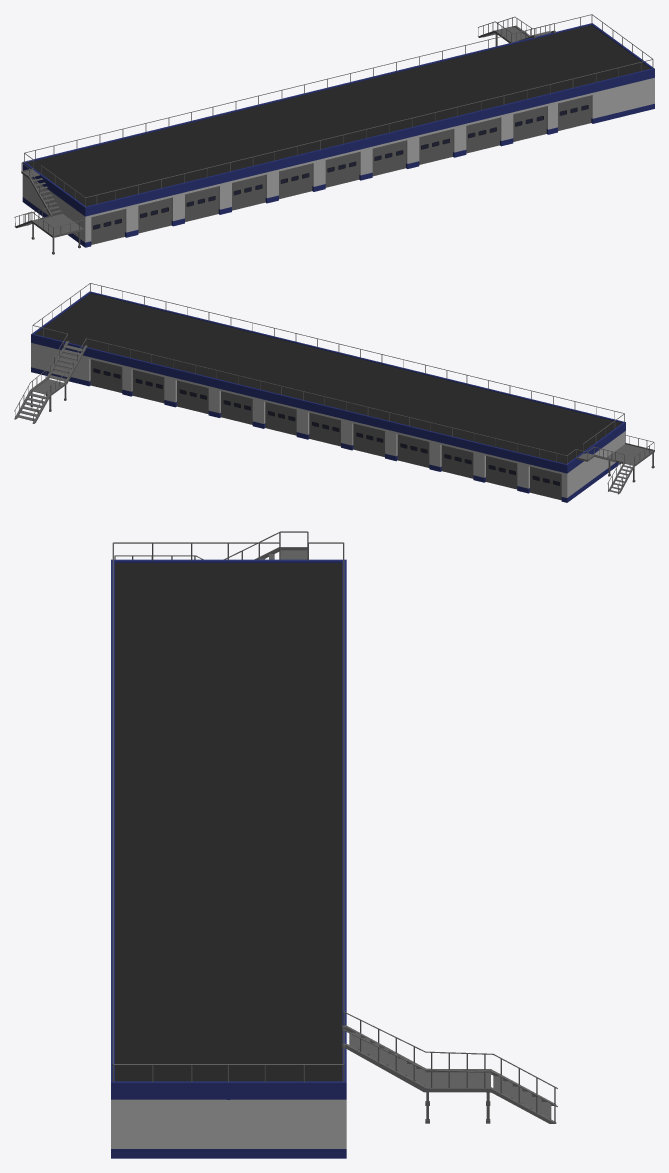
Rendered from LP_Building_02.fbx.
The picture shows the model from 3 angles, top to bottom: view 1: azimuth 30°, elevation 25°; view 2: azimuth 150°, elevation 25°; view 3: azimuth 270°, elevation 25°; orthographic projection. The views are drawn at different scales.
Parts seen in each view (by area): view 1: LP_Building_02; view 2: LP_Building_02; view 3: LP_Building_02.
Part boxes in pixels (bbox=[...]): LP_Building_02: bbox=[14, 14, 654, 254]; LP_Building_02: bbox=[14, 283, 654, 502]; LP_Building_02: bbox=[111, 531, 557, 1158].
Bounding box in the file's own units: 74.13 × 5.89 × 25.37.
